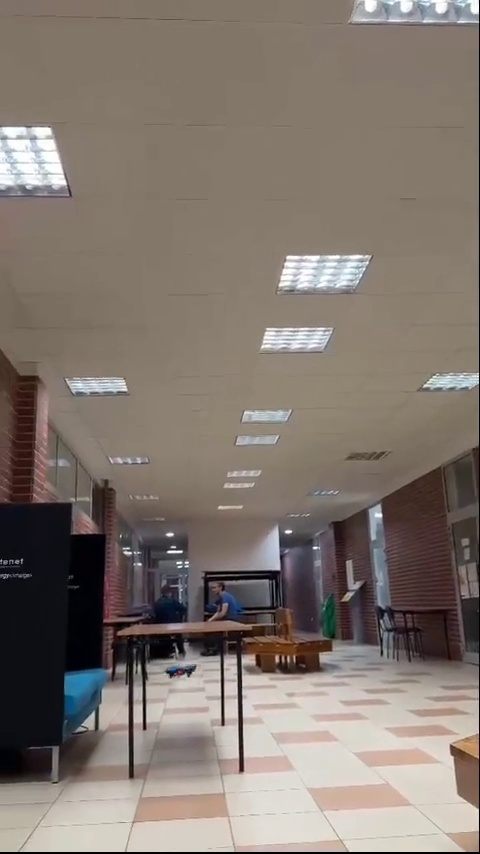drone: (166, 665, 200, 678)
no vest: (208, 580, 246, 618), (153, 583, 188, 621)
